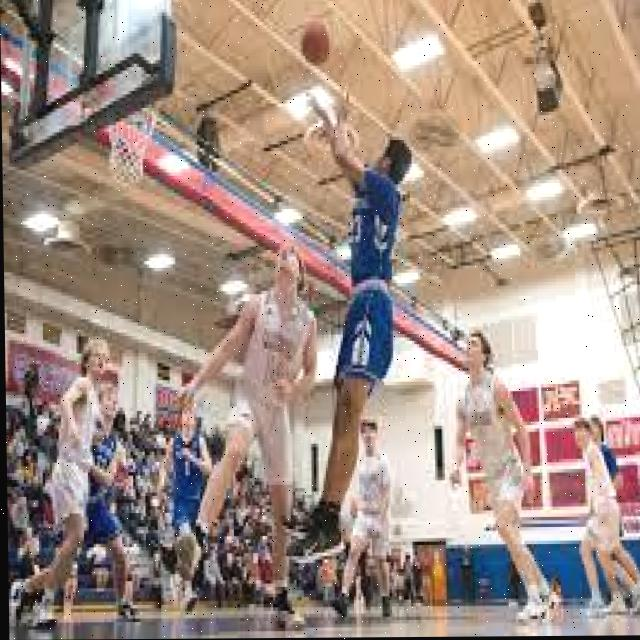basketball: (299, 18, 331, 66)
hoop: (105, 93, 159, 191)
